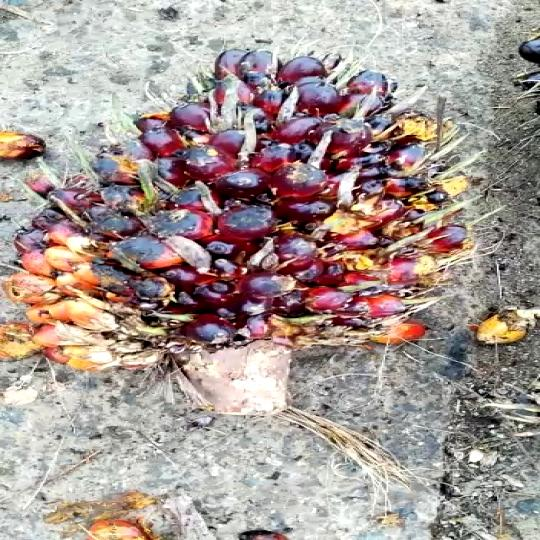masak: (0, 32, 456, 430)
